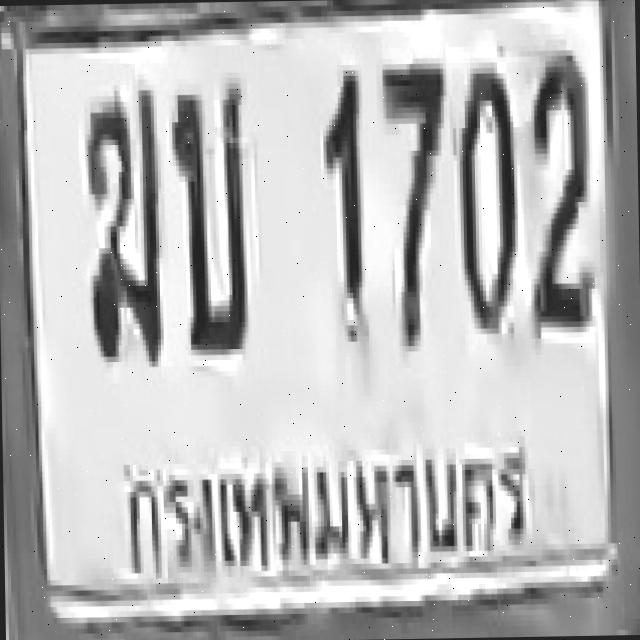0: (454, 62, 514, 328)
1: (318, 65, 362, 342)
15KhorRaKhang: (84, 87, 161, 359)
2: (526, 48, 588, 324)
35BorBaiMai: (168, 78, 245, 350)
7: (379, 60, 447, 344)
Bangkok: (121, 414, 539, 602)
